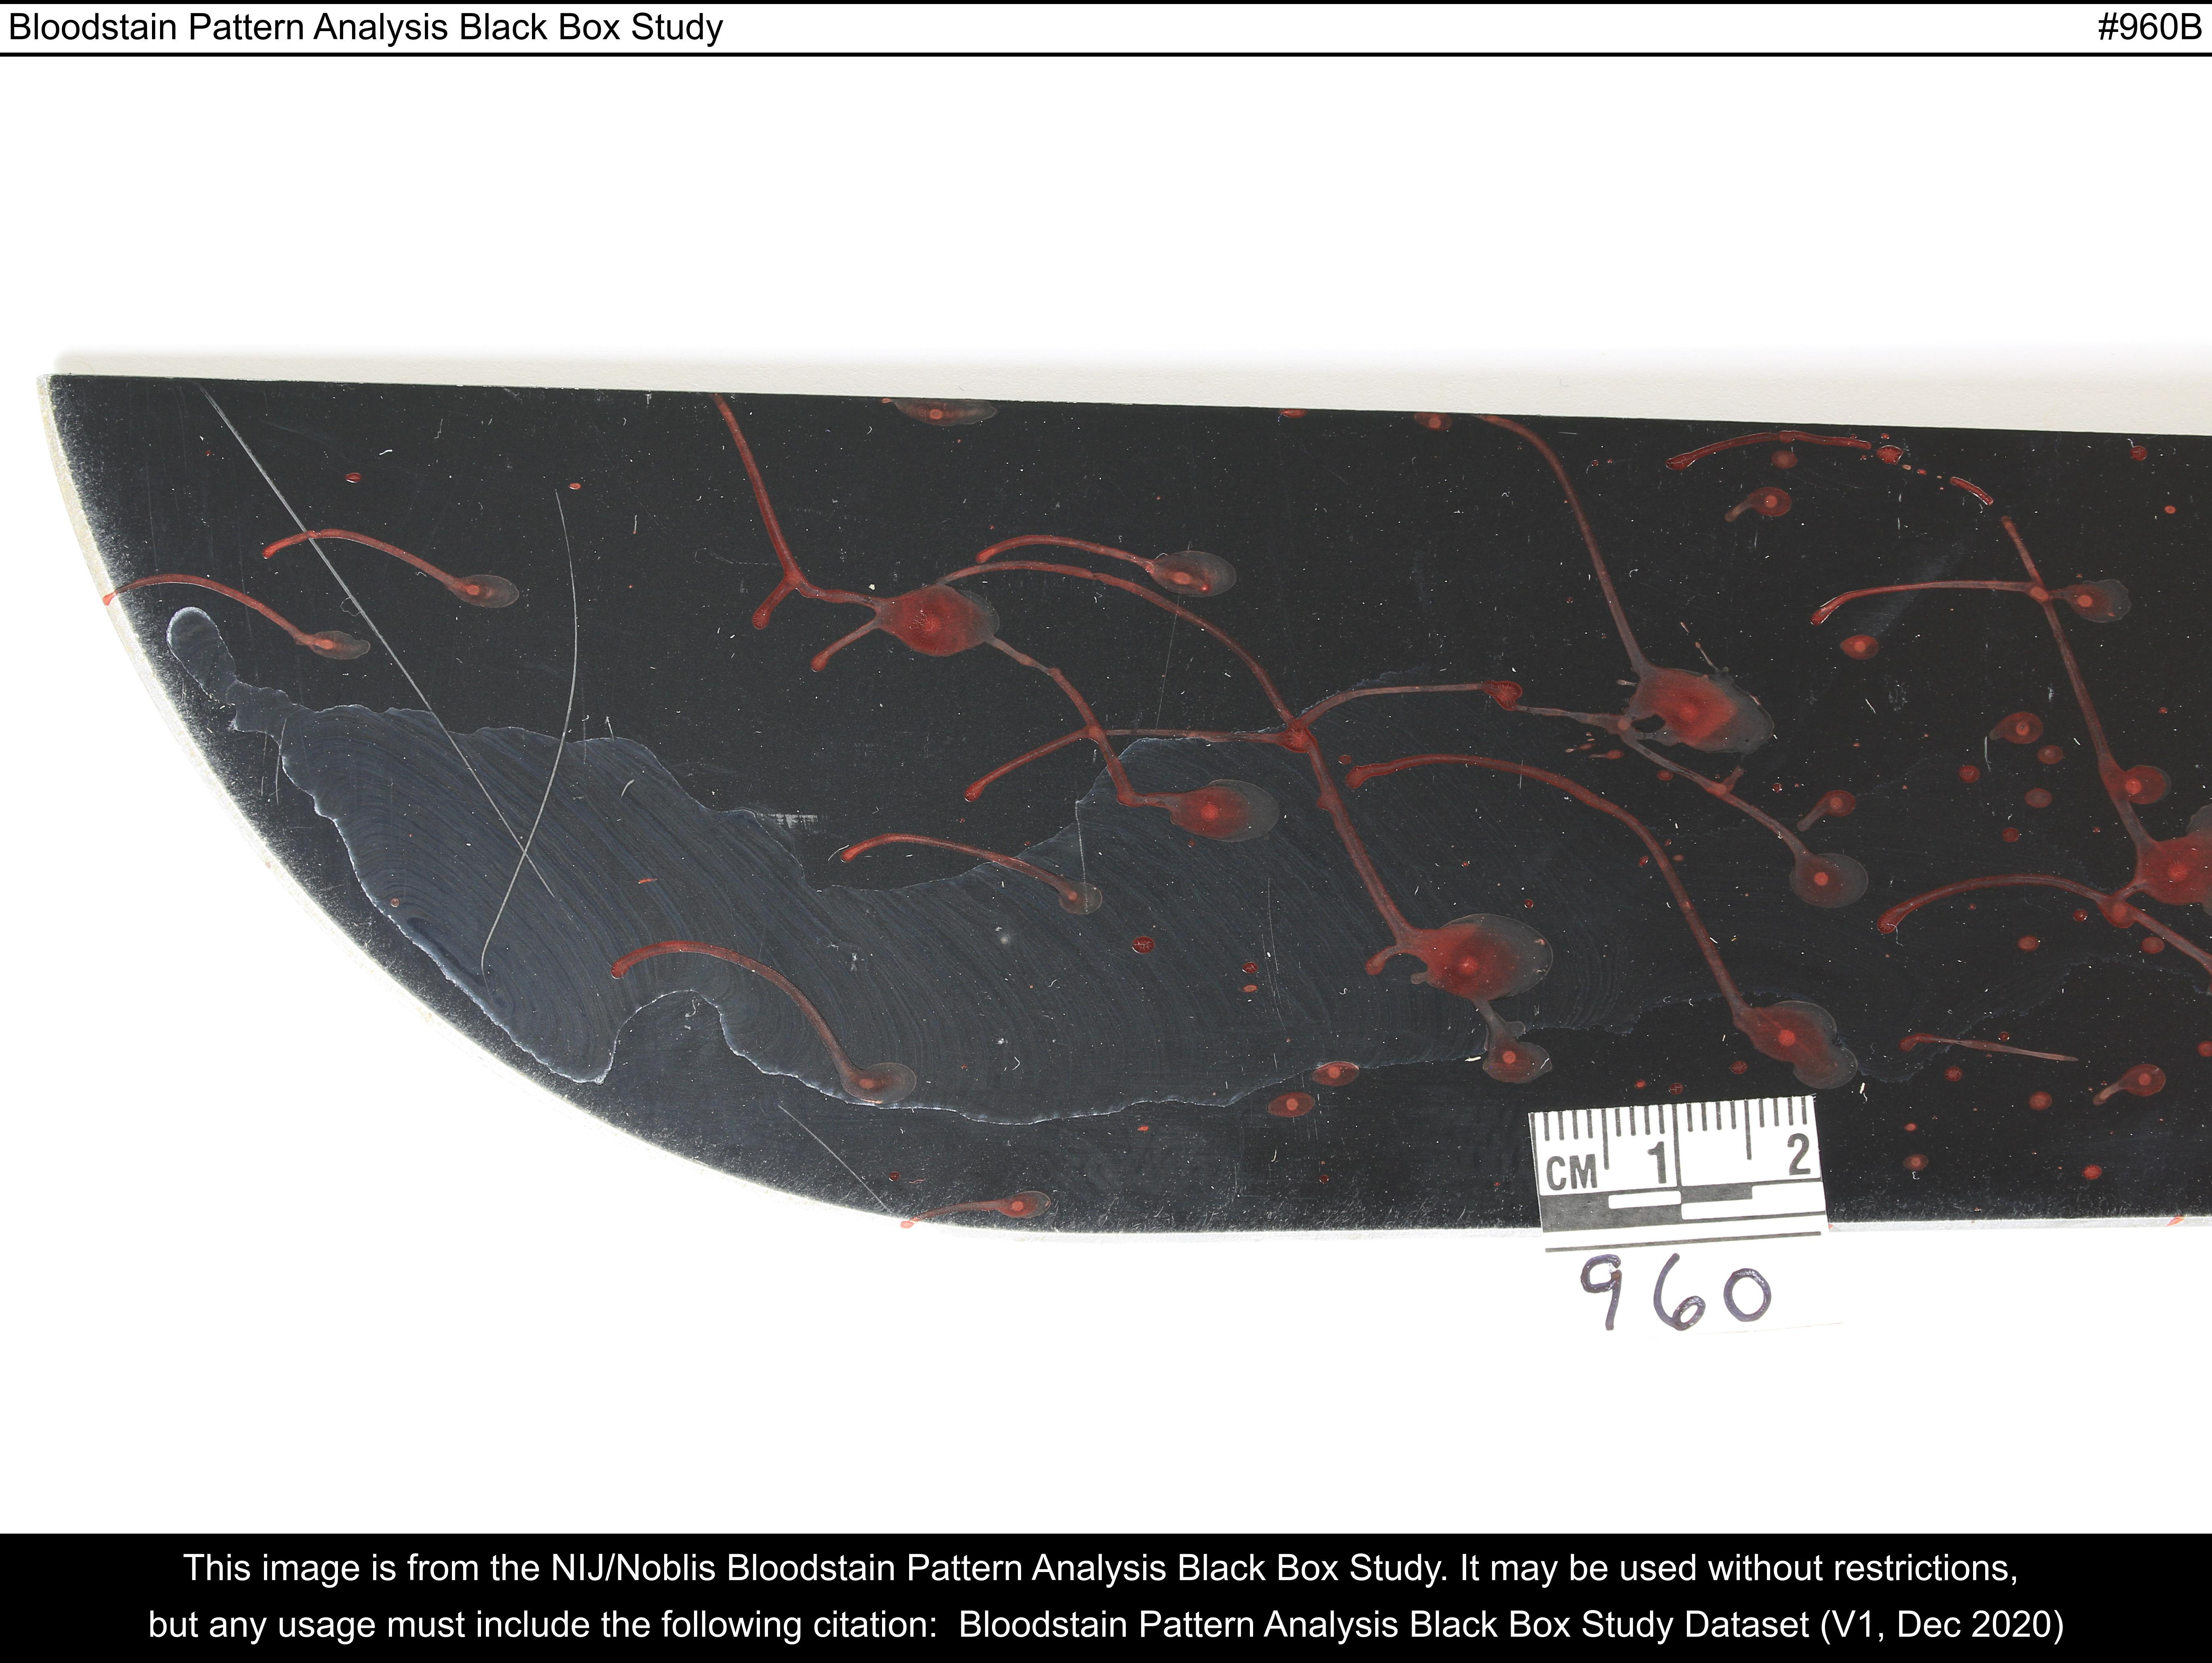Passive: (91, 388, 2212, 1259)
